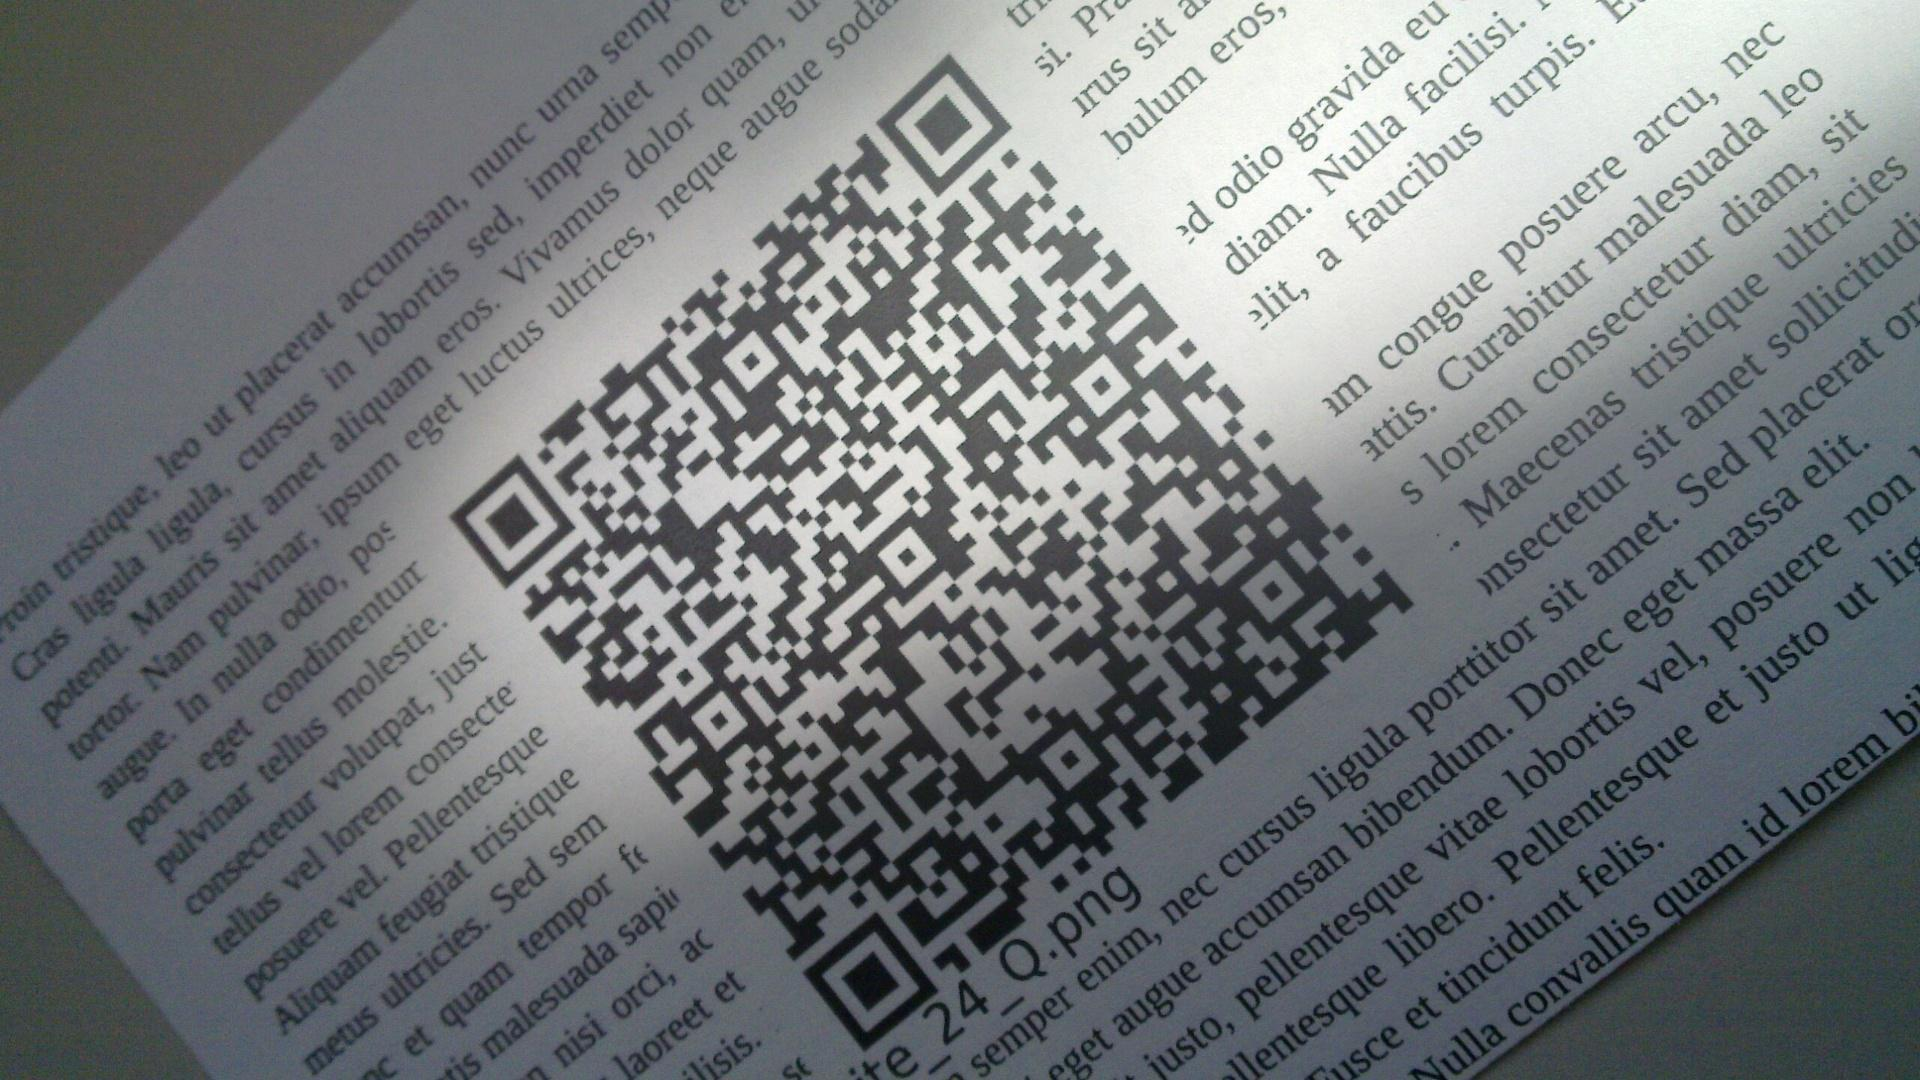qr_code: (447, 54, 1415, 1054)
